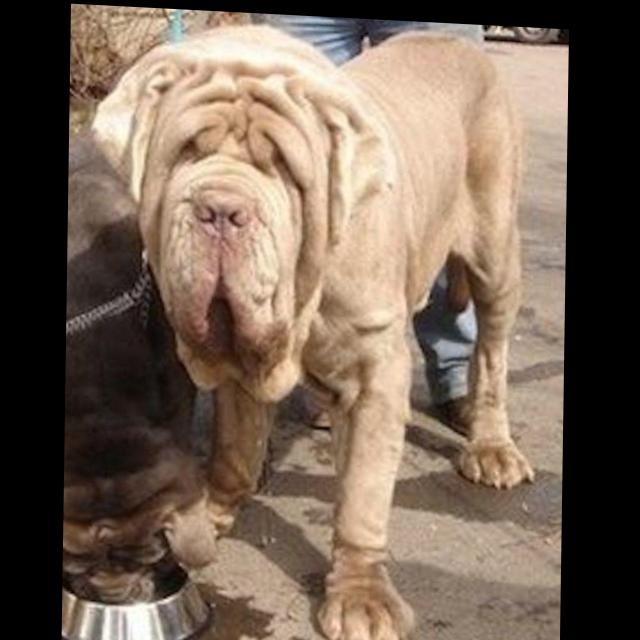mastino_napoletano: (87, 12, 543, 640), (65, 130, 205, 625)
person: (257, 12, 484, 428)
